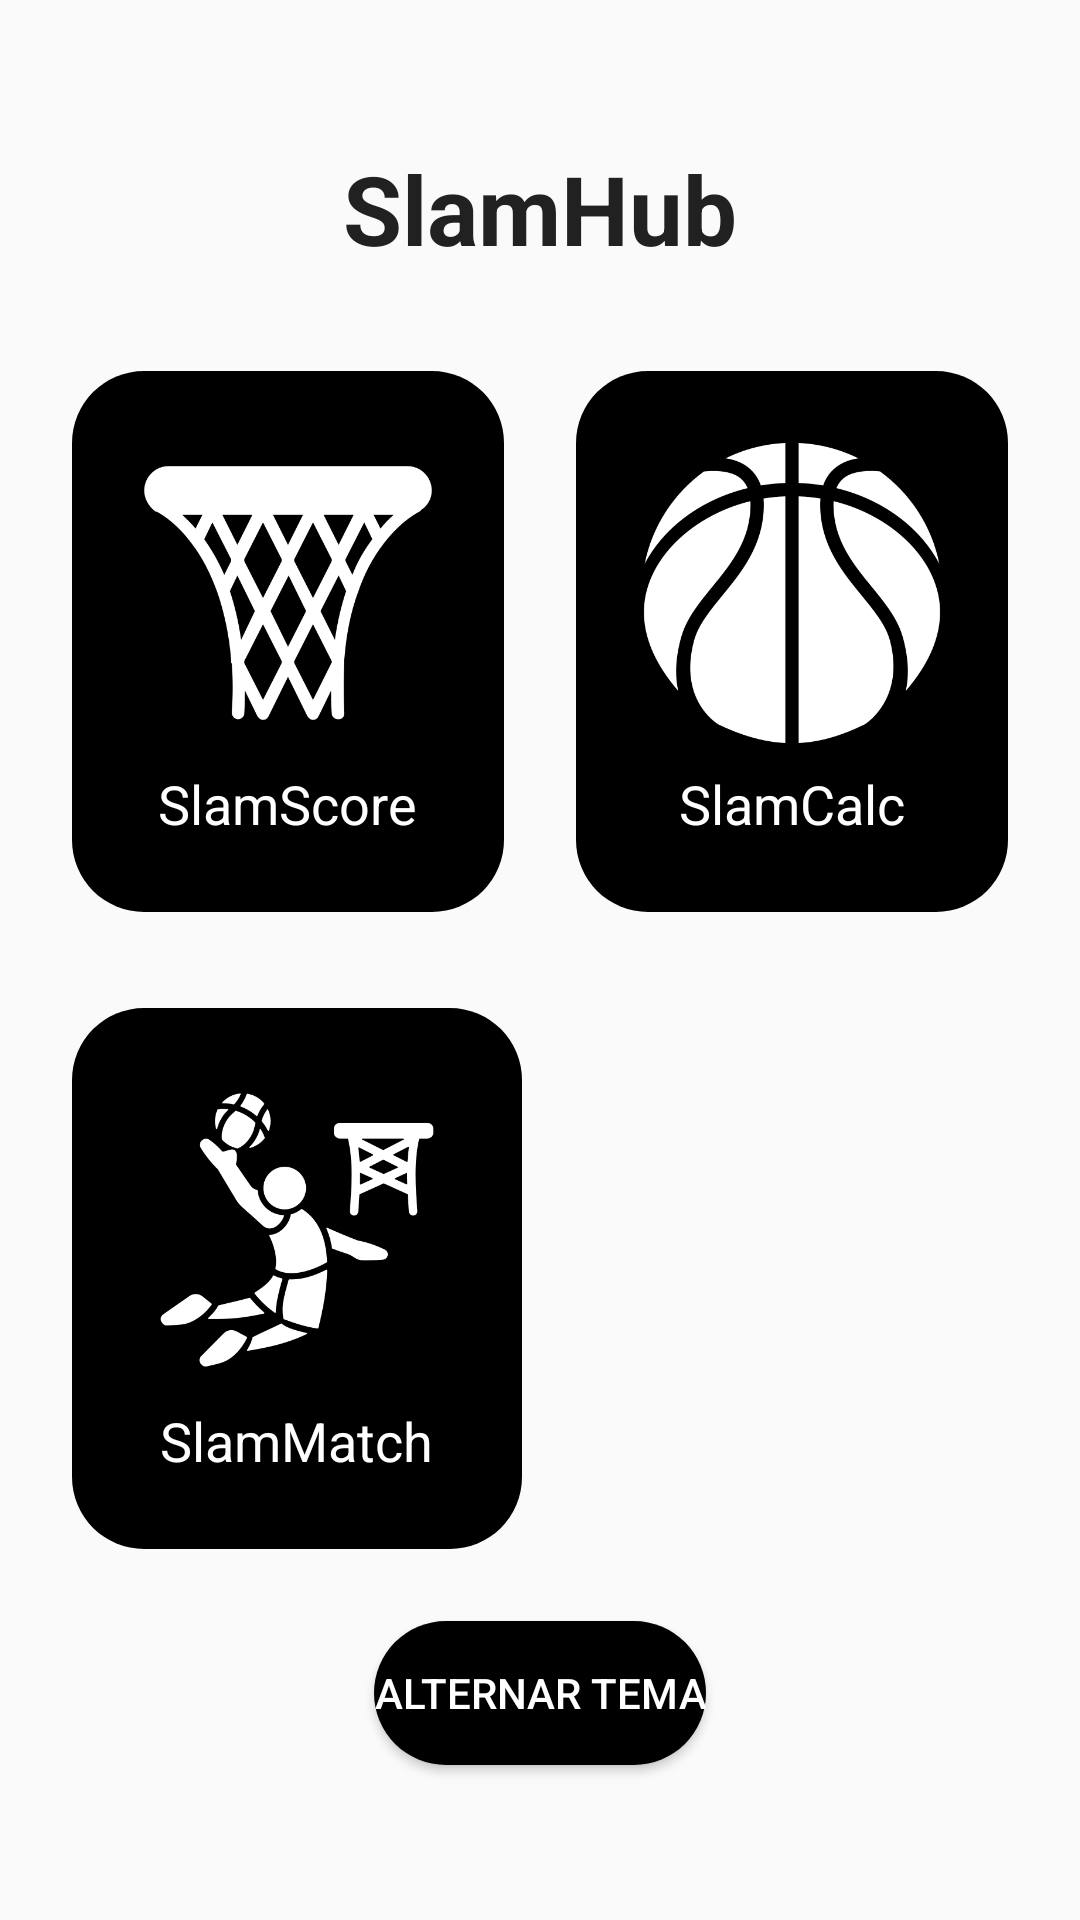

Where icons sit on this 1080×1920 app screen, as [x1,y1,x2,y2]:
ball: [644,443,940,743]
dunk: [160,1093,434,1367]
hoop: [144,466,432,720]
